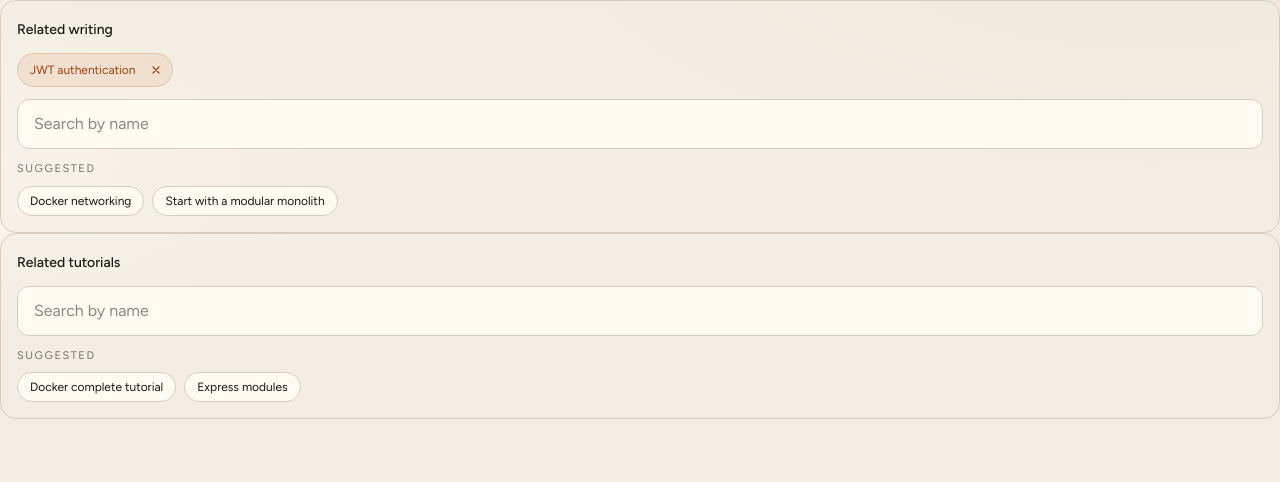
Test case: RelatedNamePicker › still shows suggestions on the second picker when names do not score
The width and height of the screenshot is (1280, 482).
Click the button "Docker complete tutorial".
click(97, 387)  # box [17,372,176,402]
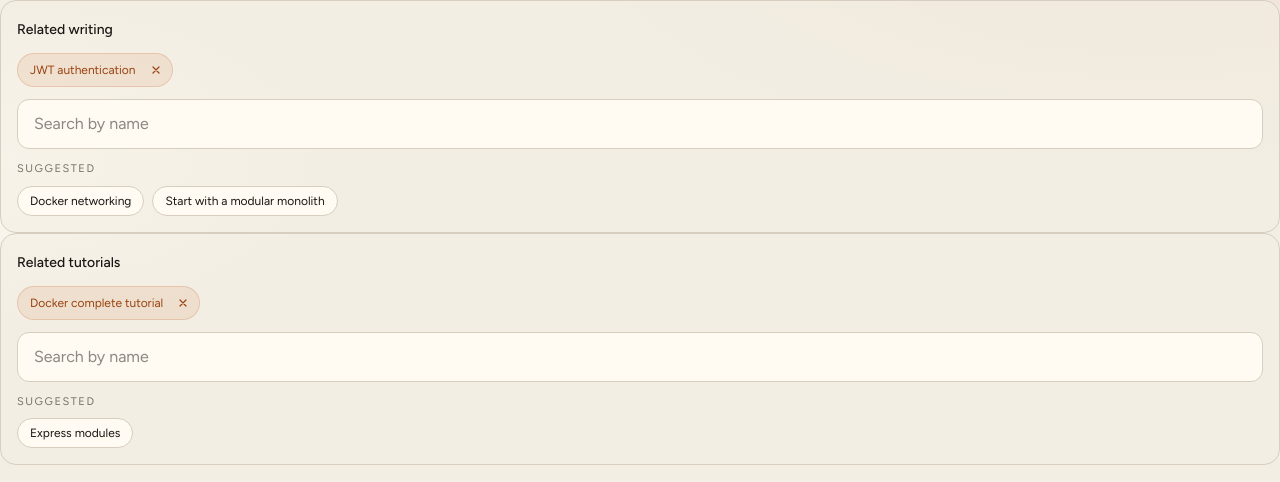
Expected: the button "Express modules" is shown, [17,418,133,448]
Expected: the button named "Remove Docker complete tutorial" is shown, [171,290,195,314]
